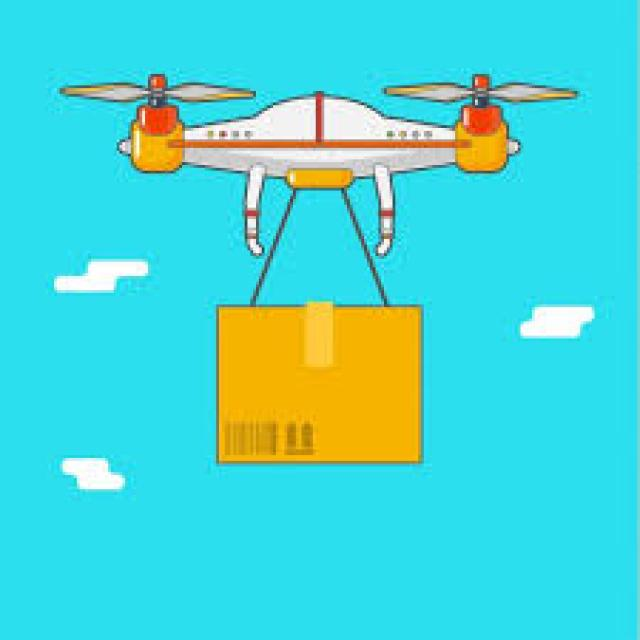drone: (41, 48, 573, 275)
